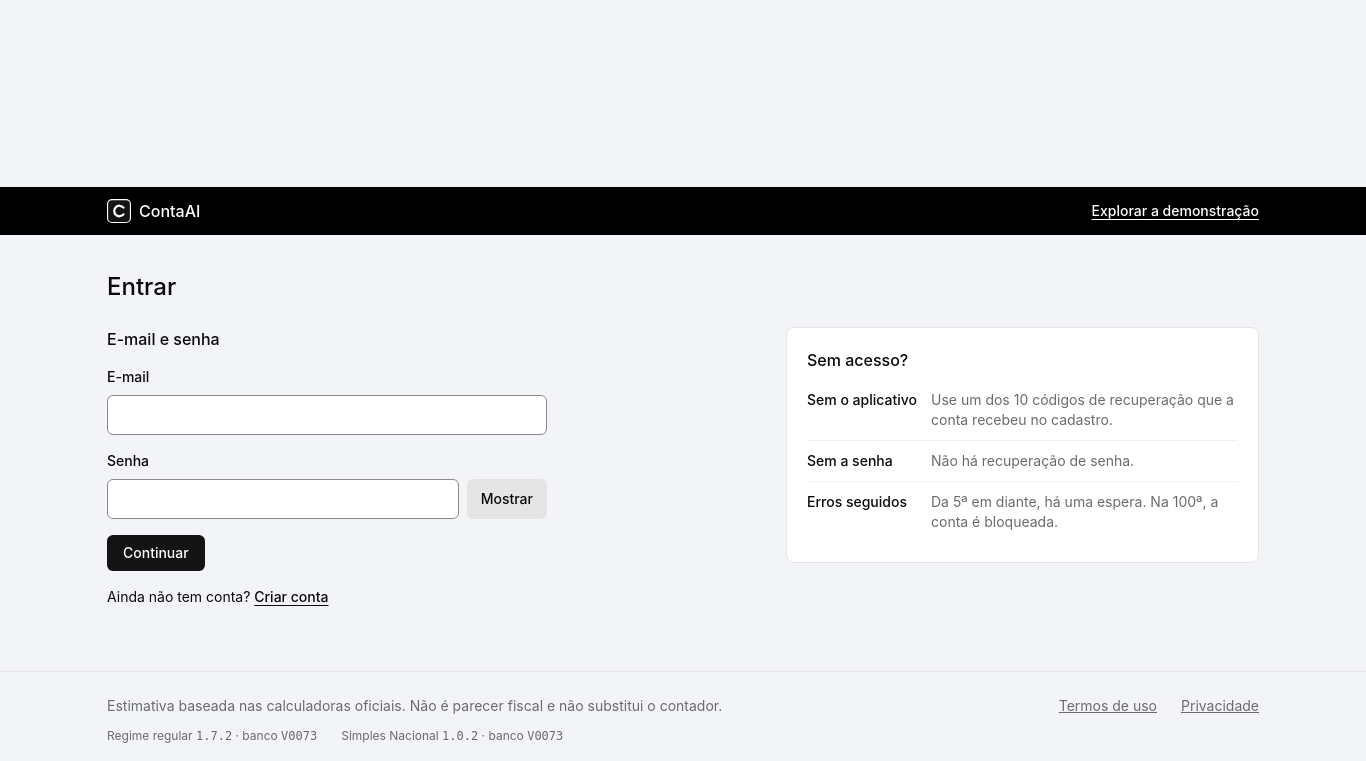
it: Entrar, passo 2: o código › a senha sai da tela; o título recebe o foco; o campo é one-time-code, com a contagem do passe
(page scrolled)
Type "pessoa@exemplo.test" into the field labelled "E-mail" at (327, 415), box [107, 395, 547, 435]
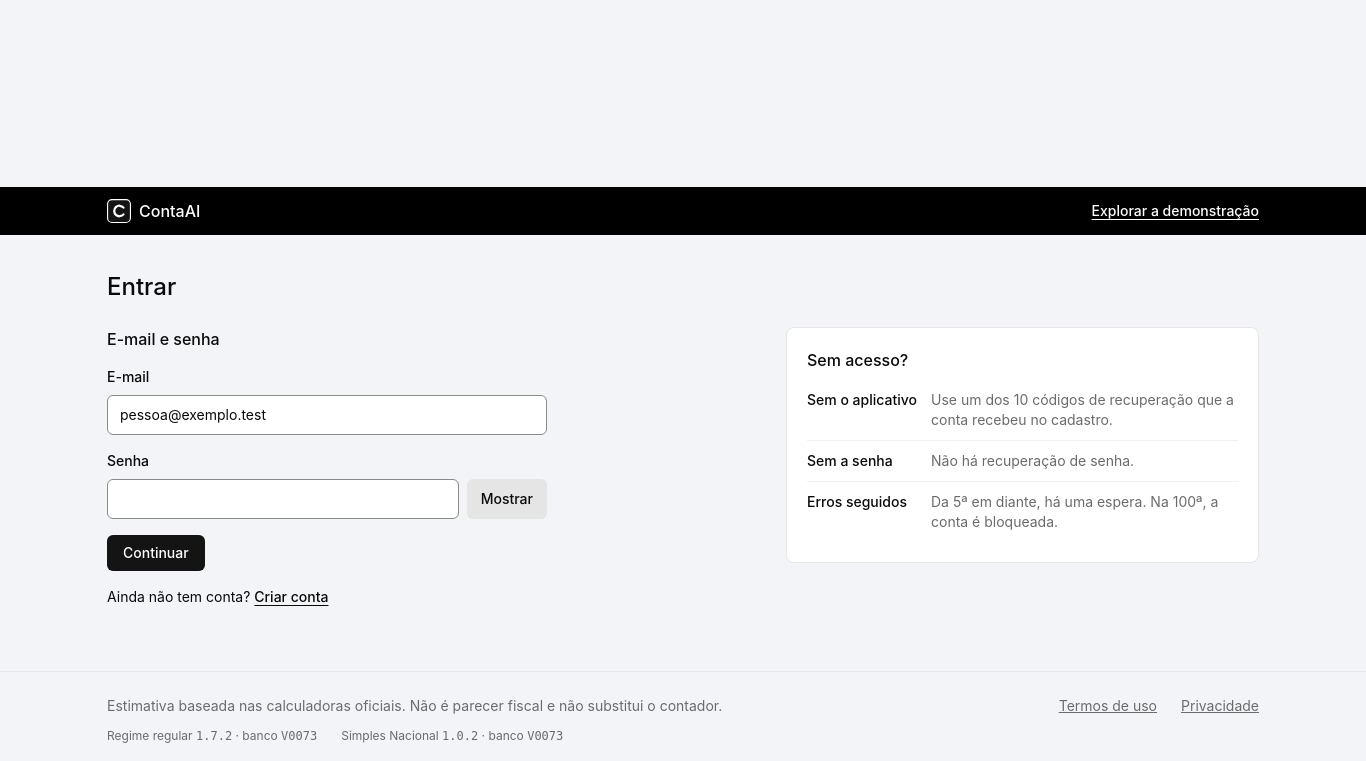
Type "a senha da pessoa" into the password field labelled "Senha" at (283, 499), box [107, 479, 459, 519]
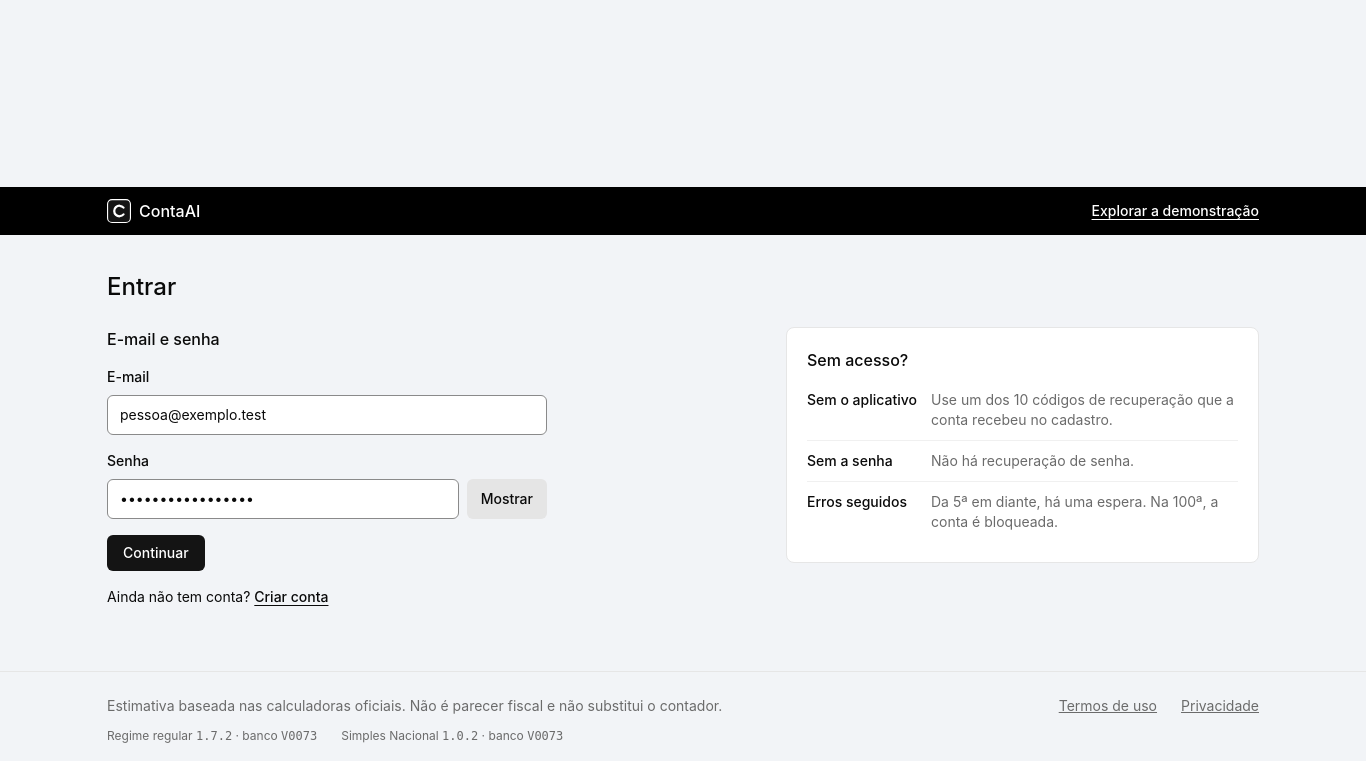
Click the button "Continuar" at (156, 553), box [107, 535, 205, 571]
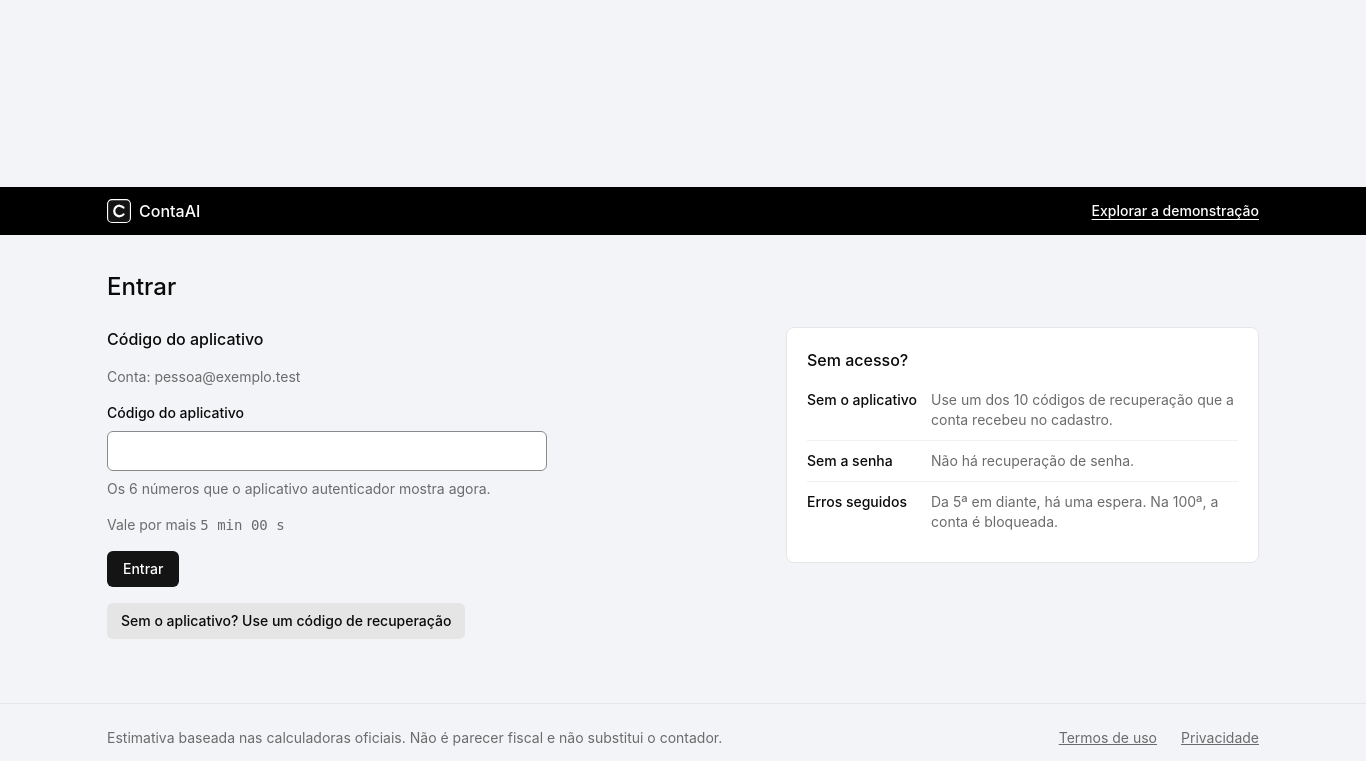
Result: the heading "Código do aplicativo" is shown at [107, 329, 264, 349]
Result: the text "5 min 00 s" is shown at [200, 517, 285, 533]
Result: the text "pessoa@exemplo.test" is shown at [154, 368, 300, 385]
